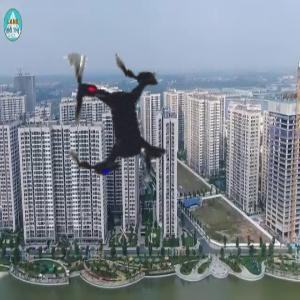drone: (4, 11, 223, 230)
